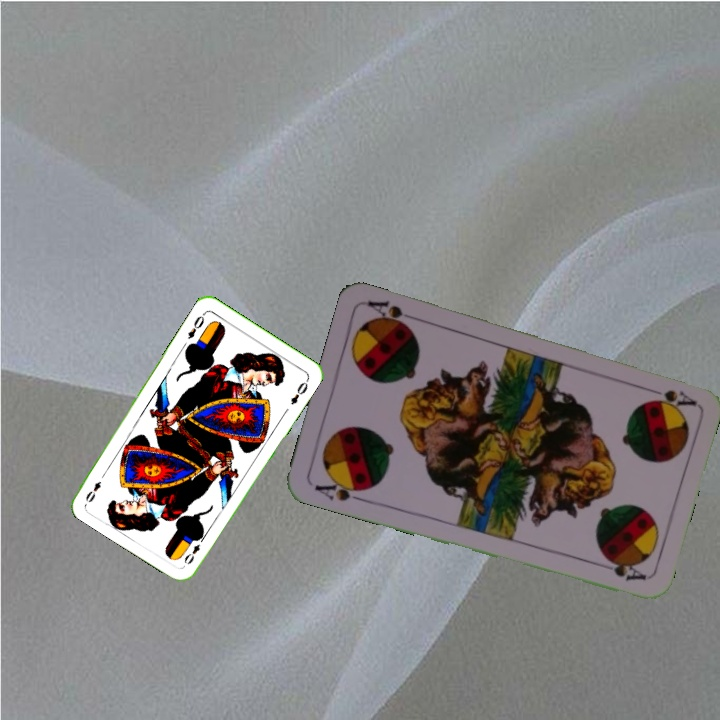EO: (180, 532, 208, 567), (183, 312, 207, 342)
SA: (311, 473, 370, 504), (640, 382, 698, 410)
